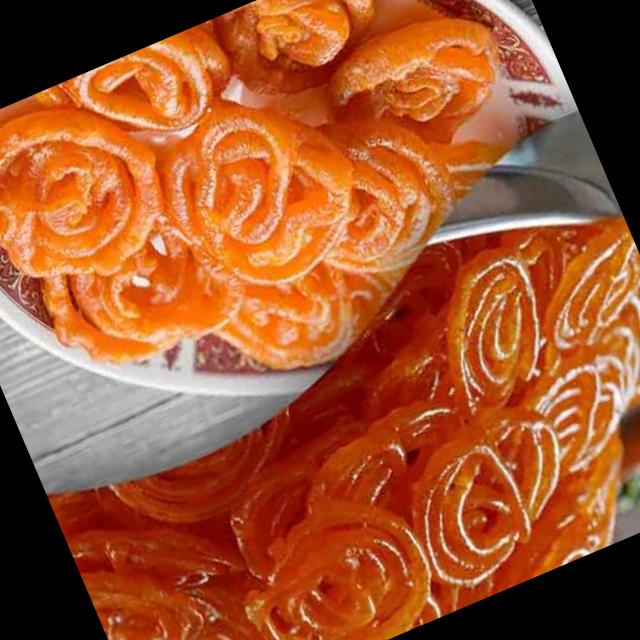jalebi: (23, 190, 640, 640), (0, 0, 585, 417)
